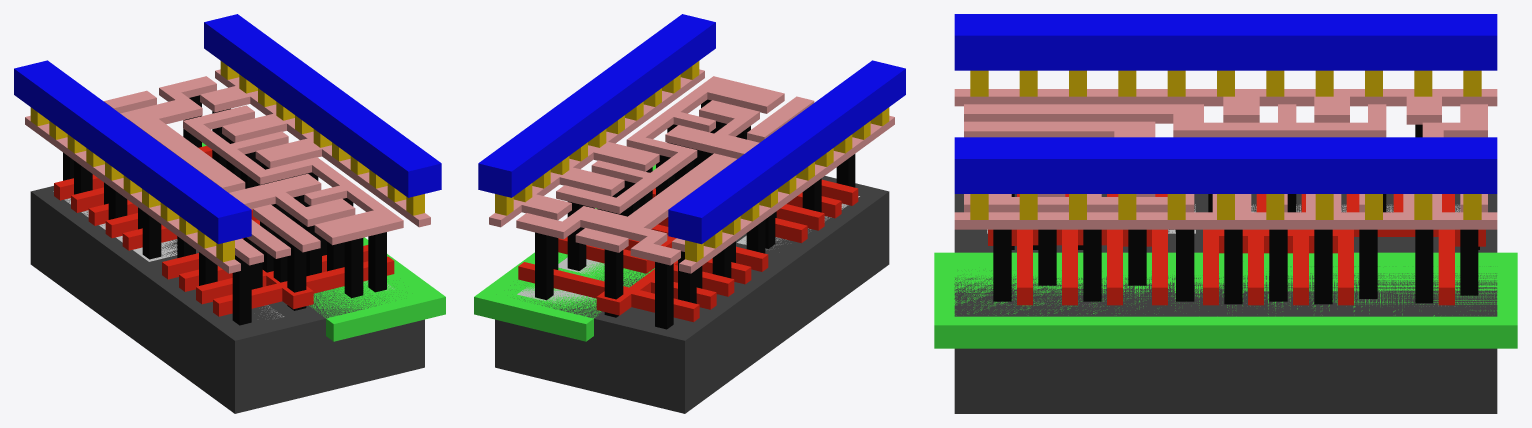
File: sky130_fd_sc_hd__einvp_4.obj
3 renders of one model, left to right at view 1: azimuth 30°, elevation 25°; view 2: azimuth 150°, elevation 25°; view 3: azimuth 270°, elevation 25°, orthographic. The views are drawn at different scales.
Visible parts, largest first — view 1: subs, metal1, li, licon, poly, nwell, mcon, diff; view 2: subs, metal1, li, poly, licon, nwell, mcon, tap; view 3: metal1, subs, li, nwell, licon, poly, mcon.
Boxes of the visible parts, x1,y1,x2,y2 form: subs: (30, 186, 424, 413); metal1: (14, 14, 441, 244); li: (25, 69, 430, 273); licon: (63, 95, 386, 325); poly: (54, 146, 394, 316); nwell: (202, 142, 445, 341); mcon: (30, 61, 424, 262); diff: (53, 191, 284, 318); subs: (495, 176, 889, 413); metal1: (478, 14, 905, 244); li: (489, 69, 894, 273); poly: (518, 179, 858, 322); licon: (535, 99, 855, 329); nwell: (474, 164, 655, 341); mcon: (495, 61, 889, 262); tap: (517, 257, 604, 305); metal1: (954, 14, 1497, 193); subs: (954, 194, 1497, 413); li: (954, 89, 1497, 229); nwell: (934, 252, 1517, 348); licon: (993, 124, 1479, 304); poly: (988, 194, 1485, 305); mcon: (970, 70, 1481, 219).
Bounding box in the file's own units: 3.2 × 2.74 × 5.44.
